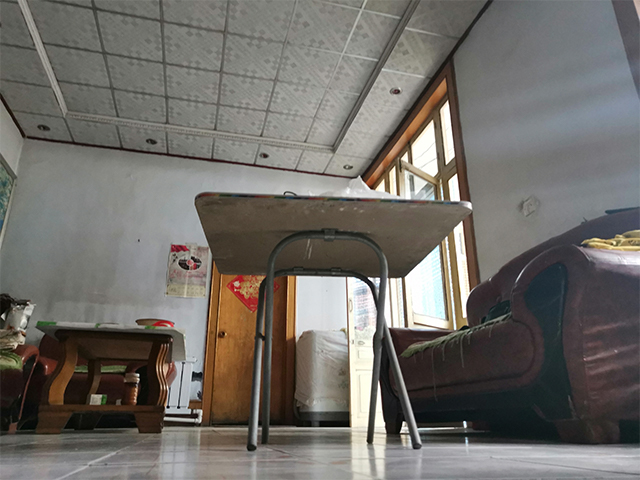sofa: (369, 204, 640, 446)
table: (192, 189, 475, 453), (32, 319, 188, 435)
